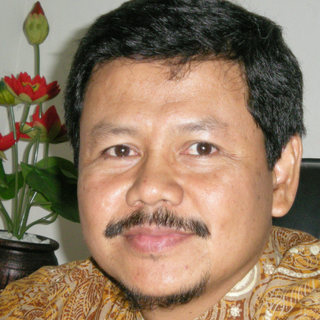eye: (174, 140, 224, 161), (99, 141, 145, 163)
